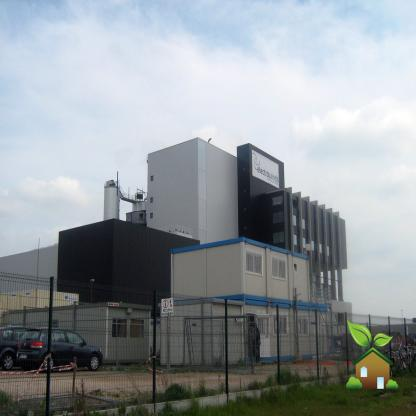Car: (16, 328, 103, 370), (0, 326, 26, 371)
